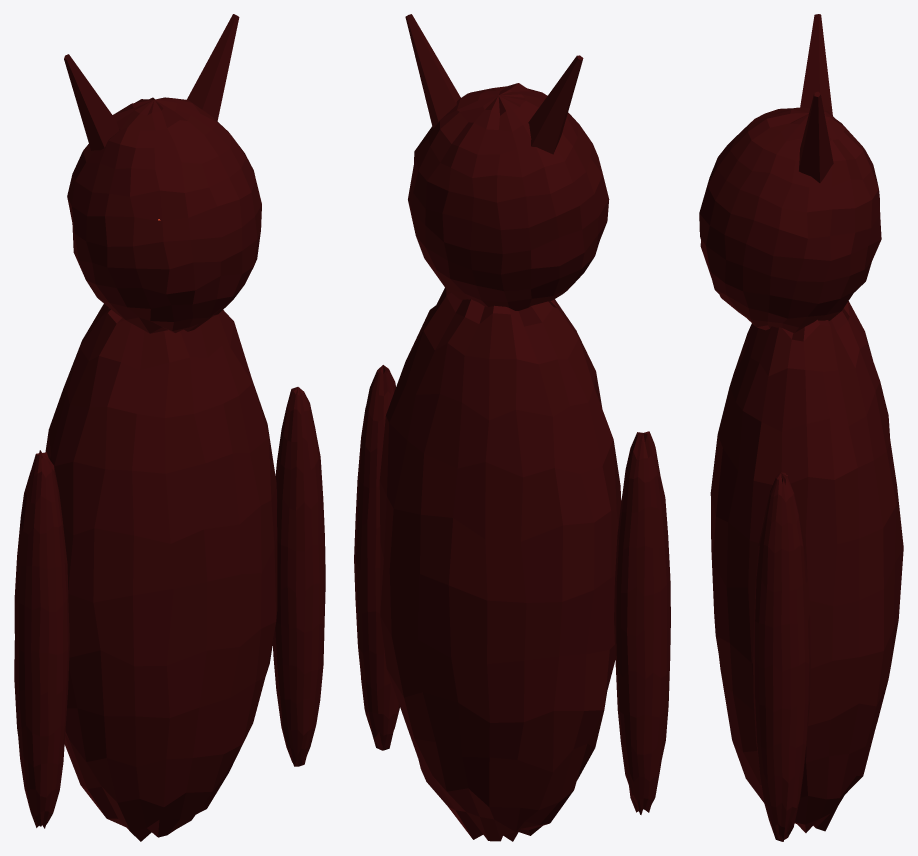
Rendered from chaser.glb.
3 renders of one model, left to right at view 1: azimuth 30°, elevation 25°; view 2: azimuth 150°, elevation 25°; view 3: azimuth 270°, elevation 25°, orthographic. The views are drawn at different scales.
Parts seen in each view (by area): view 1: Body, Head, ArmL, ArmR, HornR, HornL; view 2: Body, Head, ArmL, ArmR, HornR, HornL; view 3: Body, Head, ArmR, HornR, HornL.
Boxes of the visible parts, left/top/right/bottom form: Body: left=45, top=304, right=277, bottom=841; Head: left=67, top=97, right=261, bottom=333; ArmL: left=14, top=450, right=69, bottom=828; ArmR: left=272, top=387, right=325, bottom=766; HornR: left=187, top=14, right=239, bottom=120; HornL: left=64, top=54, right=119, bottom=150; Body: left=379, top=288, right=621, bottom=841; Head: left=408, top=83, right=609, bottom=310; ArmL: left=614, top=431, right=670, bottom=814; ArmR: left=354, top=365, right=399, bottom=750; HornR: left=405, top=14, right=460, bottom=128; HornL: left=528, top=55, right=583, bottom=154; Body: left=710, top=301, right=903, bottom=832; Head: left=699, top=107, right=881, bottom=332; ArmR: left=752, top=472, right=810, bottom=841; HornR: left=799, top=91, right=833, bottom=182; HornL: left=800, top=14, right=832, bottom=115.
Bounding box in the file's own units: 0.709 × 1.78 × 0.427.
